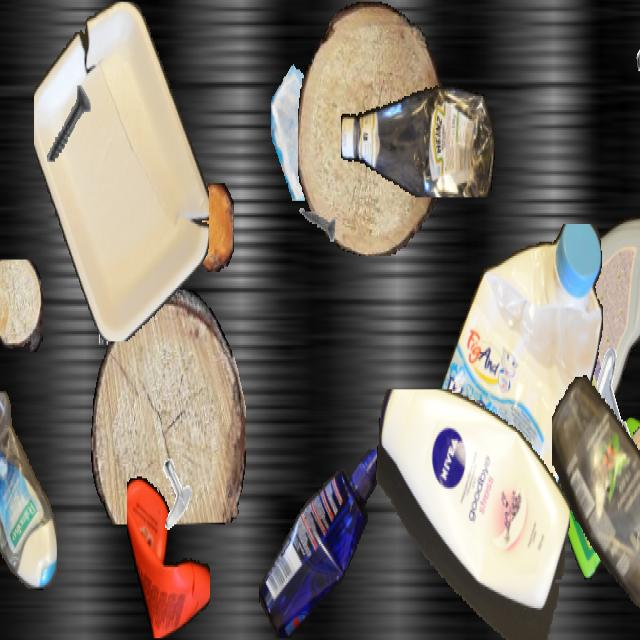glass: (271, 51, 355, 201), (439, 354, 501, 464)
metal: (37, 70, 99, 180), (585, 345, 640, 455), (91, 261, 137, 343), (151, 455, 195, 533), (296, 188, 336, 260), (635, 2, 640, 108)
plastic: (420, 224, 606, 590), (34, 2, 208, 340), (374, 390, 570, 638), (532, 203, 640, 430), (258, 450, 388, 638), (552, 372, 640, 638), (341, 76, 495, 198), (127, 471, 209, 638), (558, 416, 640, 580), (0, 391, 56, 590)
wood: (298, 2, 442, 254), (91, 290, 245, 524), (74, 166, 166, 300), (615, 416, 640, 572), (0, 260, 42, 352), (191, 183, 233, 272)
